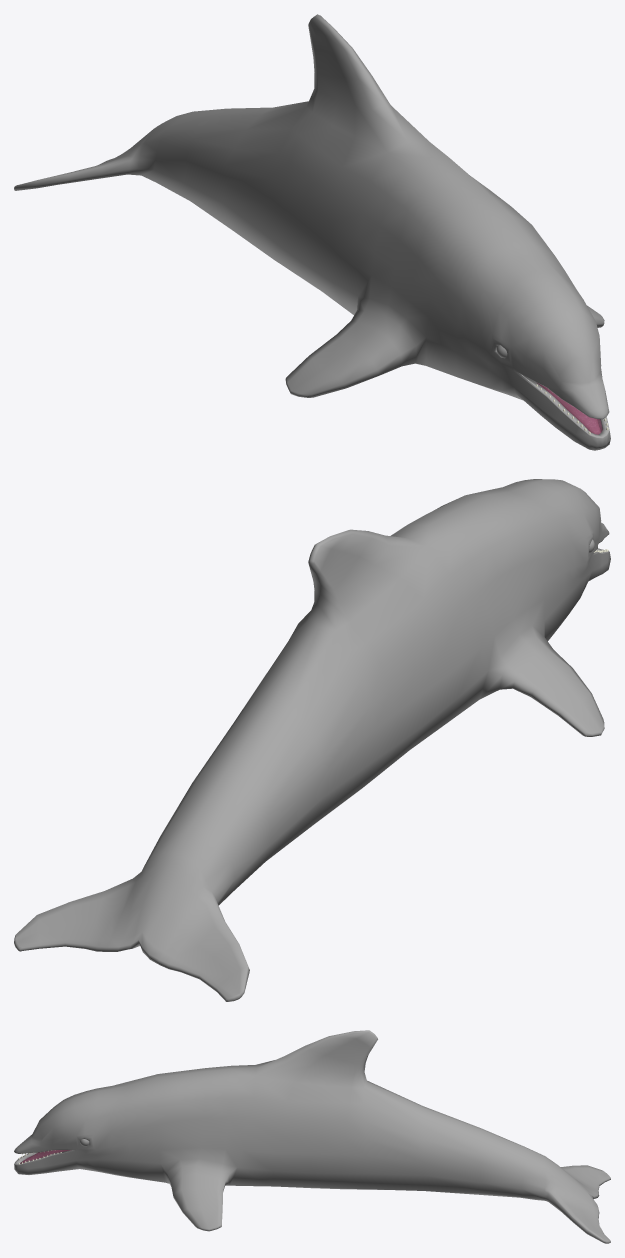
Rendered from Dolphin.obj.
3 renders of one model, top to bottom at view 1: azimuth 30°, elevation 25°; view 2: azimuth 150°, elevation 25°; view 3: azimuth 270°, elevation 25°, orthographic. The views are drawn at different scales.
Visible parts, largest first — view 1: DolphinMouth_Cube.003; view 2: DolphinMouth_Cube.003; view 3: DolphinMouth_Cube.003.
Part boxes in pixels (box(x1,y1,x2,y2)): DolphinMouth_Cube.003: box(14, 14, 610, 450); DolphinMouth_Cube.003: box(14, 479, 610, 1001); DolphinMouth_Cube.003: box(14, 1030, 610, 1243).
Size of the model in its own units: 3.55 by 3.17 by 9.46.
Materials: 2 (1 with a texture image).
